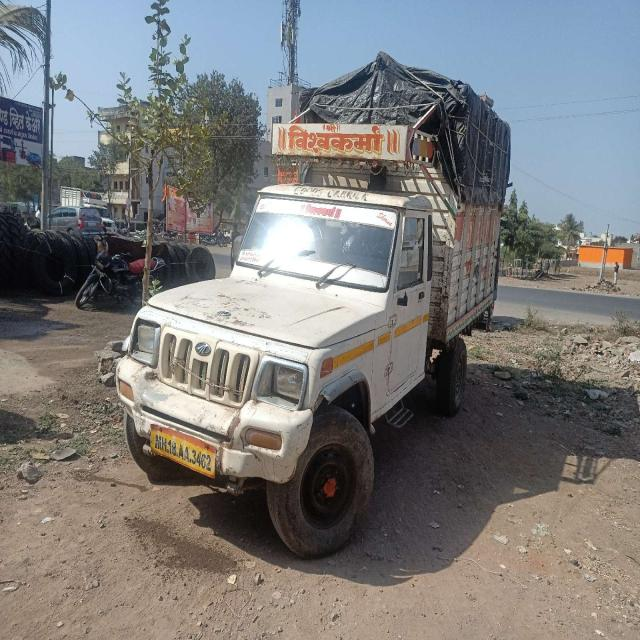light_vehicle: (106, 175, 487, 498)
